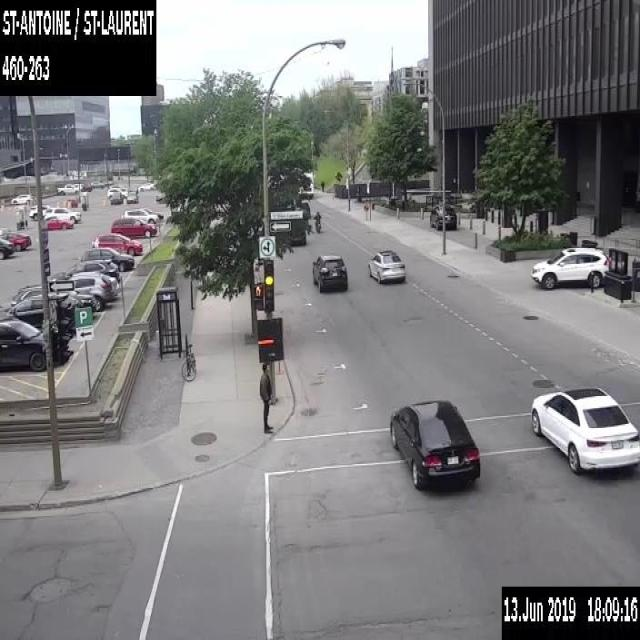bus: (296, 168, 314, 198)
pedestrian: (258, 362, 274, 434), (320, 179, 324, 192)
vehicle: (529, 384, 639, 472), (388, 397, 480, 488), (530, 246, 609, 287), (6, 292, 72, 333), (0, 316, 45, 372), (17, 287, 96, 311), (65, 271, 111, 310), (49, 257, 119, 282), (311, 252, 348, 293), (367, 248, 406, 284), (80, 246, 134, 270), (91, 232, 142, 255), (110, 216, 156, 238), (429, 203, 456, 229), (0, 231, 31, 250), (44, 206, 80, 222), (121, 208, 158, 223), (286, 218, 306, 245), (43, 215, 73, 230), (28, 203, 50, 219), (0, 236, 14, 259), (10, 192, 30, 205), (140, 207, 163, 218), (296, 199, 310, 217), (57, 183, 78, 194), (106, 187, 126, 198), (312, 211, 322, 232), (109, 274, 119, 294), (109, 190, 123, 203), (137, 181, 154, 191), (126, 190, 138, 203), (109, 183, 127, 190), (156, 192, 165, 202), (72, 182, 82, 190)
